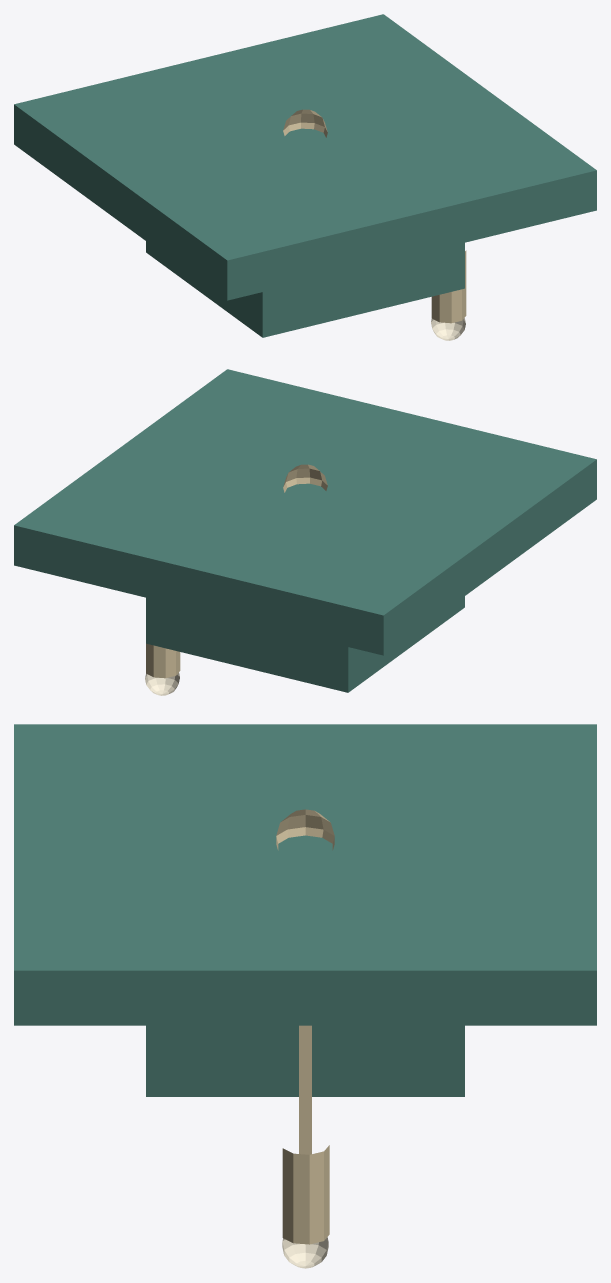
Rendered from toga.glb.
The picture shows the model from 3 angles, top to bottom: view 1: azimuth 30°, elevation 25°; view 2: azimuth 150°, elevation 25°; view 3: azimuth 270°, elevation 25°; orthographic projection. The views are drawn at different scales.
Parts seen in each view (by area): view 1: Soft square crown, Velvet crown band, Tassel fringe, Center button, Tassel tip; view 2: Soft square crown, Velvet crown band, Tassel fringe, Center button, Tassel tip; view 3: Soft square crown, Velvet crown band, Tassel fringe, Ceremonial tassel cord, Center button, Tassel tip.
Part boxes in pixels (x1,y1,x2,y2): Soft square crown: (14,14,596,300); Velvet crown band: (146,241,464,337); Tassel fringe: (431,250,466,323); Center button: (283,109,327,137); Tassel tip: (431,318,465,340); Soft square crown: (14,369,596,655); Velvet crown band: (146,596,464,692); Tassel fringe: (146,643,180,678); Center button: (283,464,327,492); Tassel tip: (145,673,179,695); Soft square crown: (14,724,596,1025); Velvet crown band: (146,1025,464,1096); Tassel fringe: (282,1145,329,1244); Ceremonial tassel cord: (299,1025,311,1154); Center button: (276,809,334,850); Tassel tip: (282,1237,328,1268).
Bounding box in the file's own units: 0.53 × 0.36 × 0.53.
